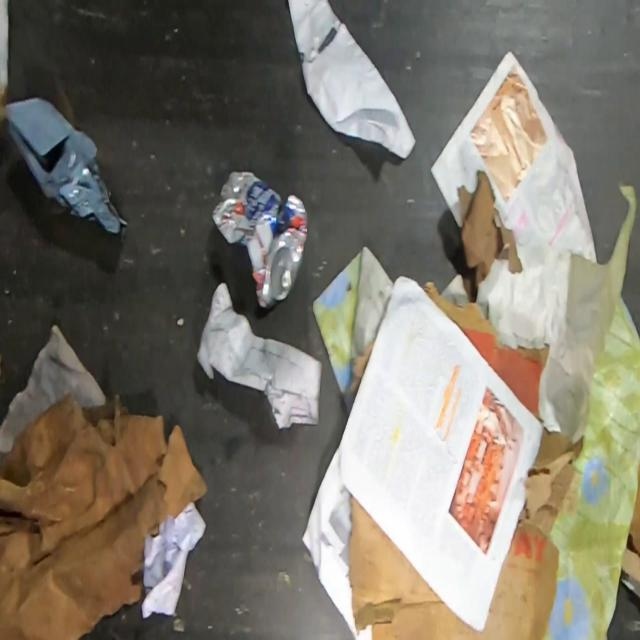cardboard: (348, 428, 585, 639), (421, 282, 550, 424), (620, 536, 640, 587), (629, 476, 640, 556)
metal: (212, 170, 310, 312)
soft_plastic: (8, 96, 130, 235)
